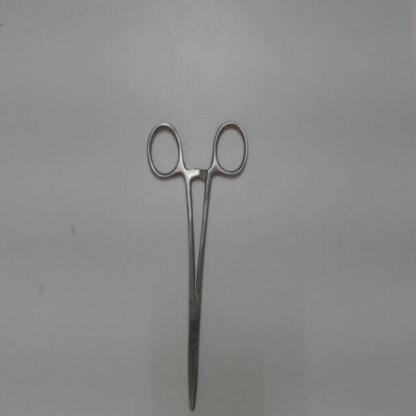Mayo Needle Holder: (140, 112, 258, 414)
